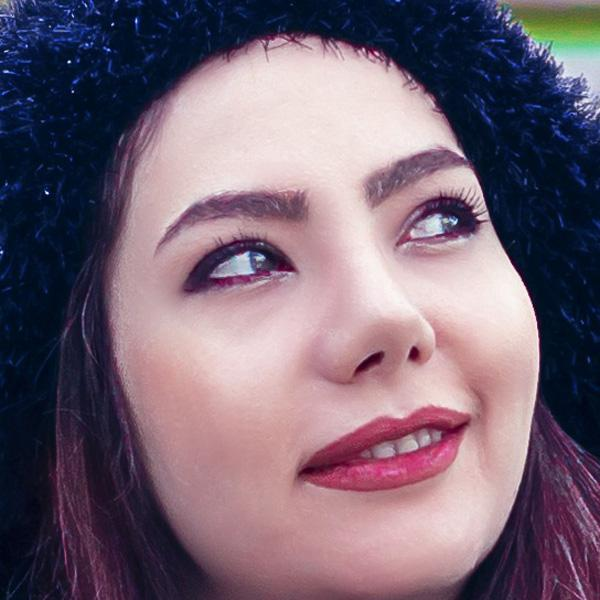Eyes: (180, 231, 305, 305), (389, 190, 489, 255)
